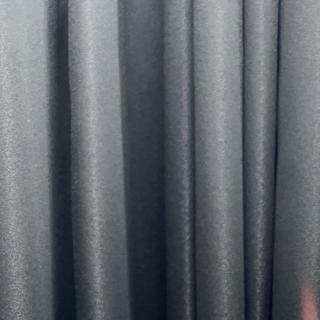fire: (298, 280, 320, 320)
